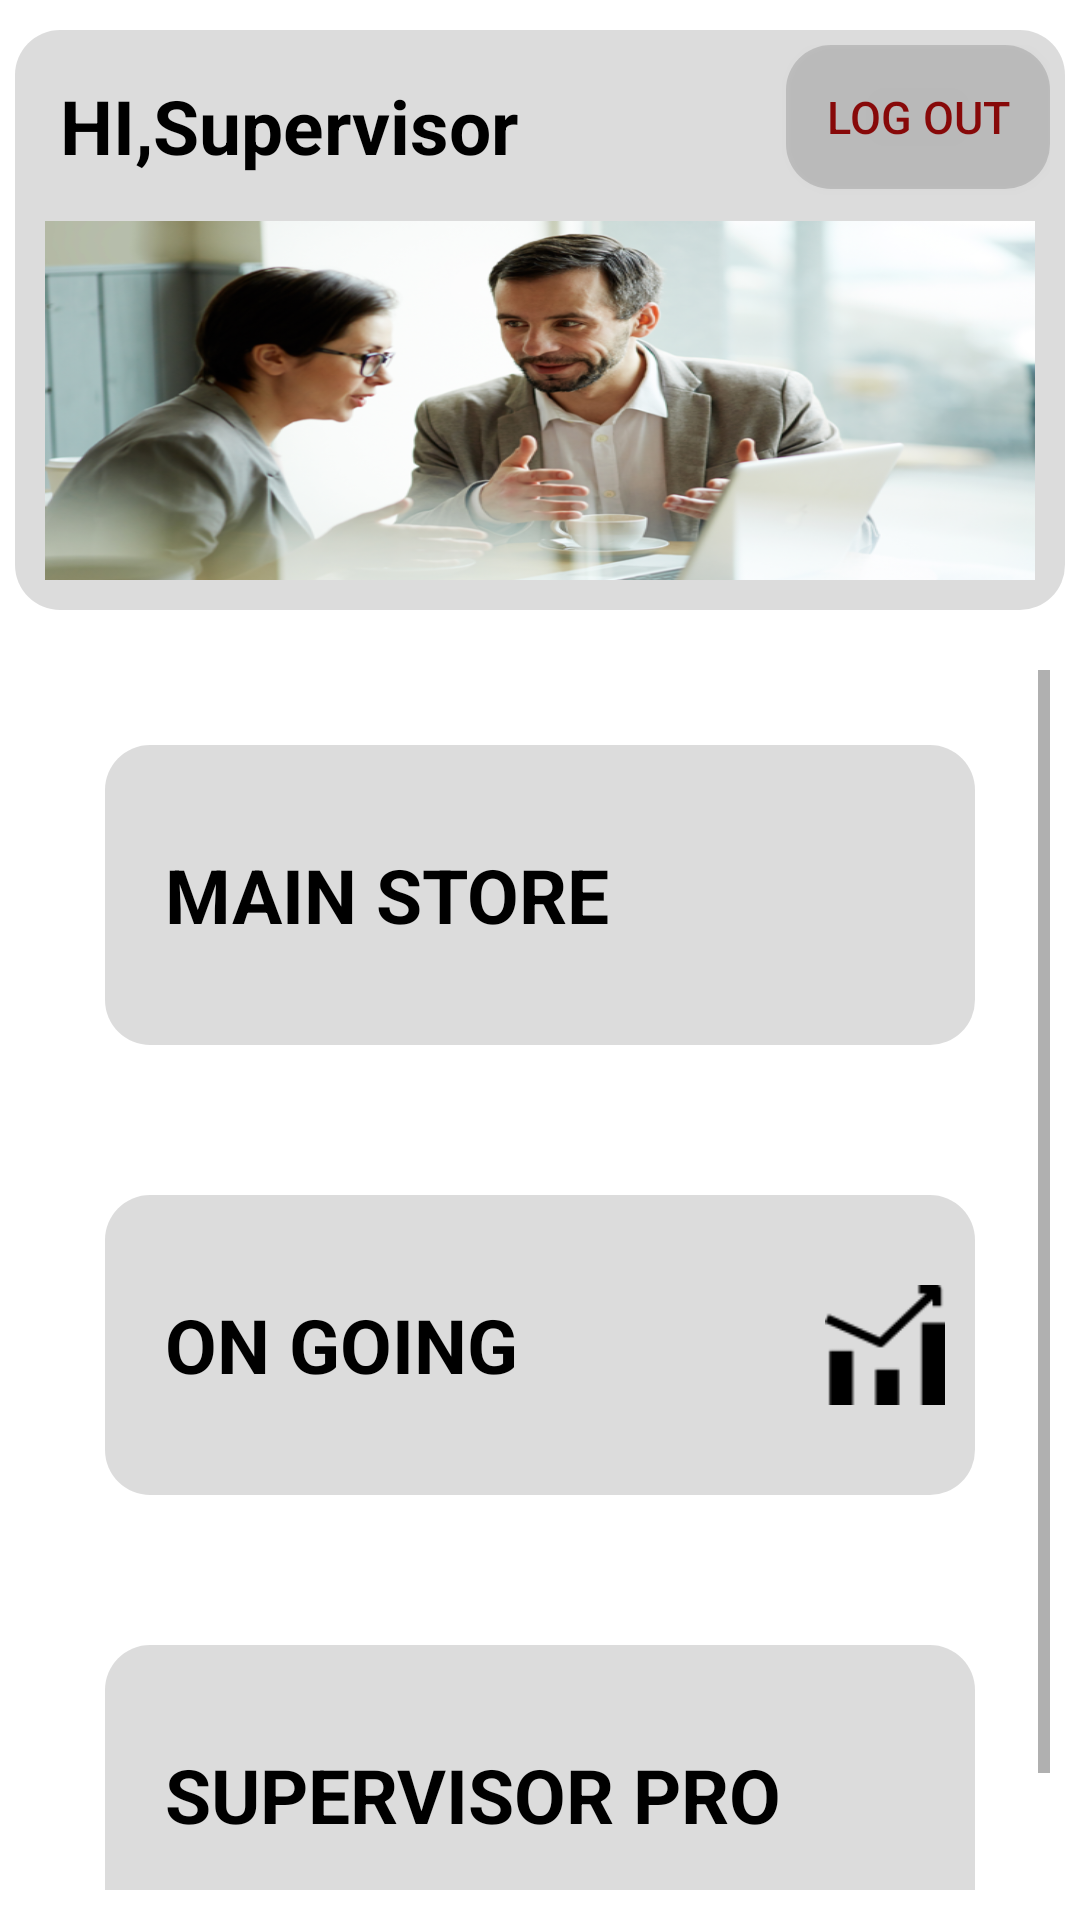

Screen size 1080×1920. Icon name, then its box in pixels as Rect(x1, y1, x2, y2):
progress: Rect(825, 1285, 945, 1405)
